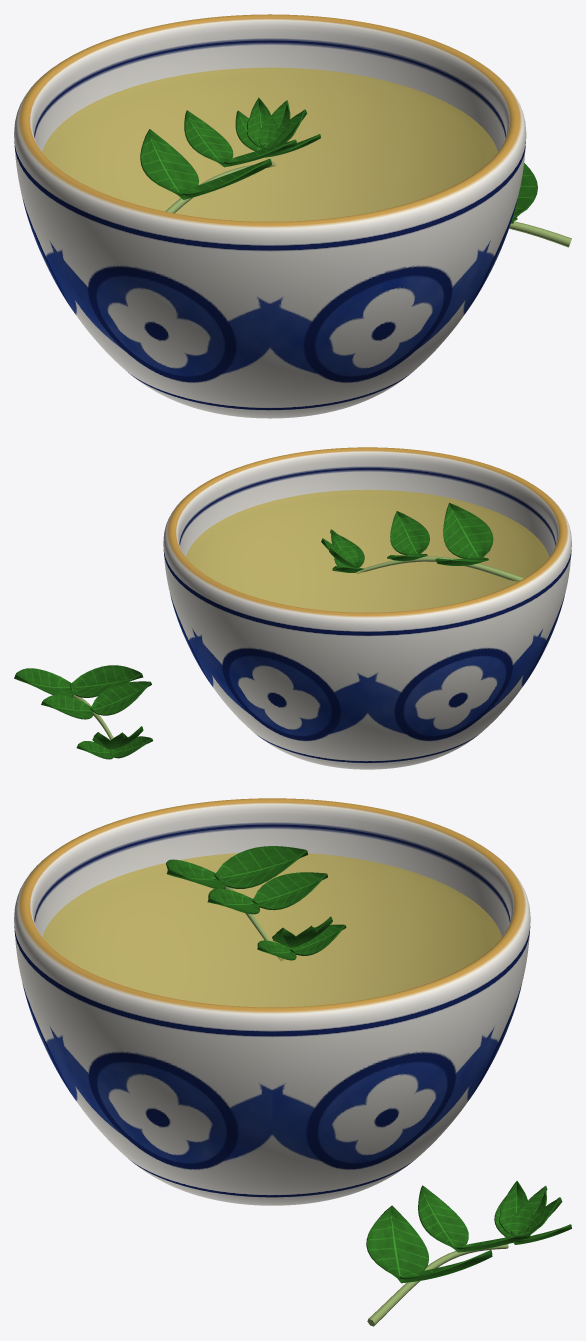
The model's file is green-tea.glb.
The picture shows the model from 3 angles, top to bottom: view 1: azimuth 30°, elevation 25°; view 2: azimuth 150°, elevation 25°; view 3: azimuth 270°, elevation 25°; orthographic projection. The views are drawn at different scales.
Parts seen in each view (by area): view 1: base, green-tea, mint; view 2: base, green-tea, mint; view 3: base, green-tea, mint.
Boxes of the visible parts, x1,y1,x2,y2 form: base: [14, 14, 526, 418]; green-tea: [42, 67, 497, 221]; mint: [140, 97, 571, 247]; base: [163, 447, 571, 769]; green-tea: [186, 489, 549, 612]; mint: [14, 503, 523, 759]; base: [14, 798, 530, 1205]; green-tea: [42, 853, 501, 1007]; mint: [166, 846, 571, 1326].
Bounding box in the file's own units: 0.1188 × 0.0512 × 0.0992.
Materials: 6 (3 with a texture image).
